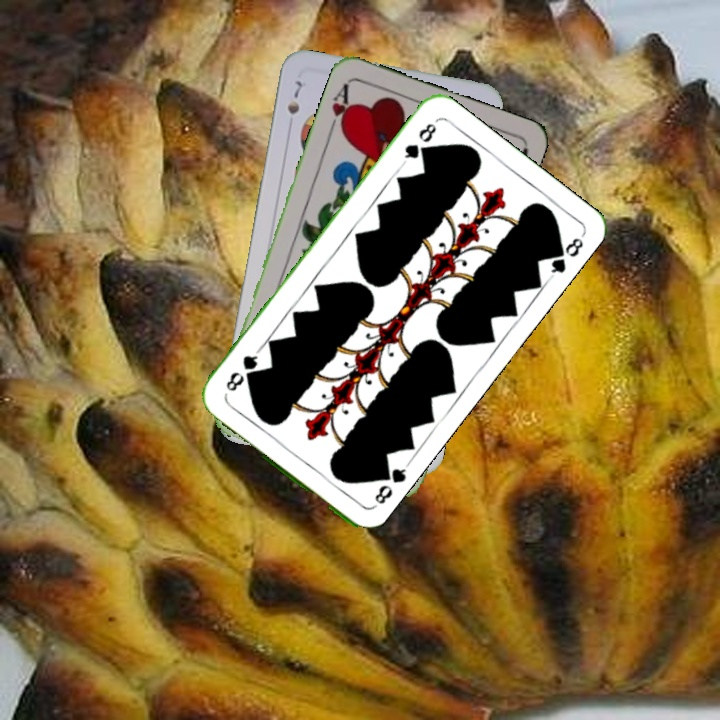G8: (368, 461, 410, 512), (398, 119, 439, 167)
HA: (324, 79, 355, 137)
S7: (283, 76, 305, 117)
